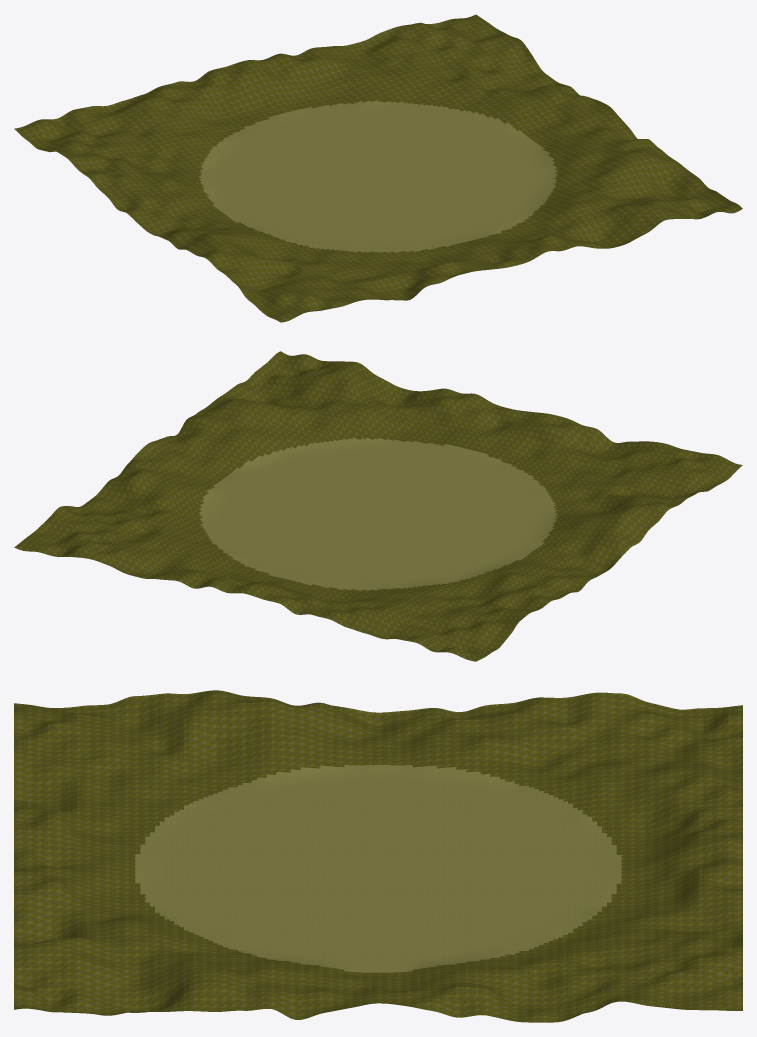
The model's file is ground.gltf.
3 views of the same model, one above another, from view 1: azimuth 30°, elevation 25°; view 2: azimuth 150°, elevation 25°; view 3: azimuth 270°, elevation 25° (orthographic). The views are drawn at different scales.
Parts seen in each view (by area): view 1: ground; view 2: ground; view 3: ground.
Part boxes in pixels (x1,y1,x2,y2): ground: (14, 14, 742, 322); ground: (14, 351, 742, 661); ground: (14, 690, 742, 1022).
Bounding box in the file's own units: 900 × 48.09 × 900.
